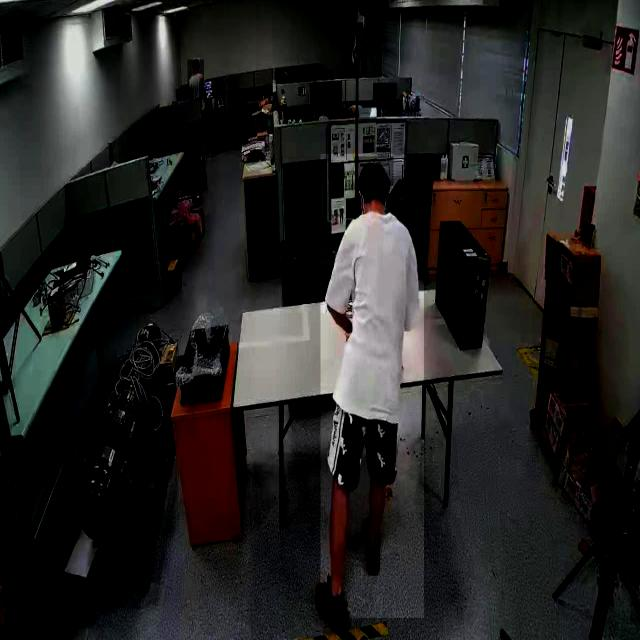head_nohelmet: (358, 156, 394, 186), (192, 58, 200, 64)
person: (320, 154, 424, 618), (187, 60, 204, 100)
shoes: (311, 567, 355, 635), (360, 511, 386, 579)
